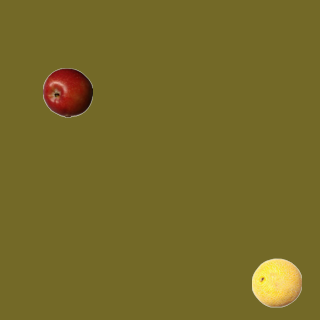Apple Braeburn: (42, 67, 92, 117)
Cantaloupe 1: (251, 257, 301, 307)
